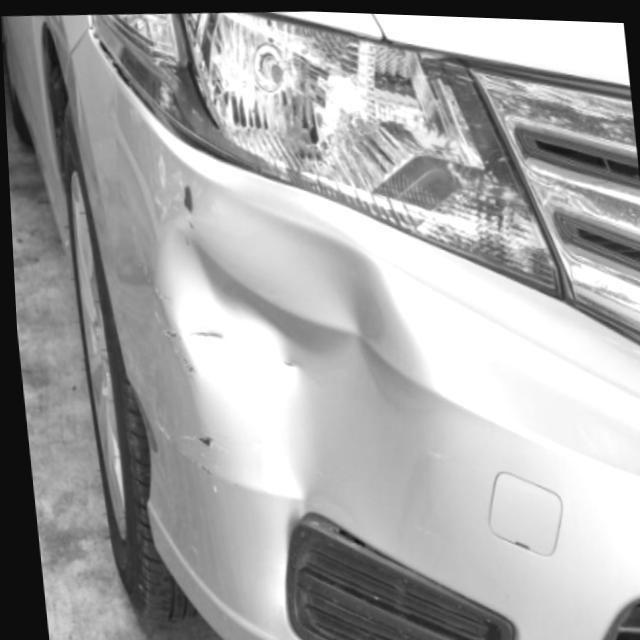Dent: (149, 197, 451, 541)
Scratch: (138, 245, 202, 379), (158, 328, 228, 342), (183, 431, 217, 455), (180, 180, 198, 214)
